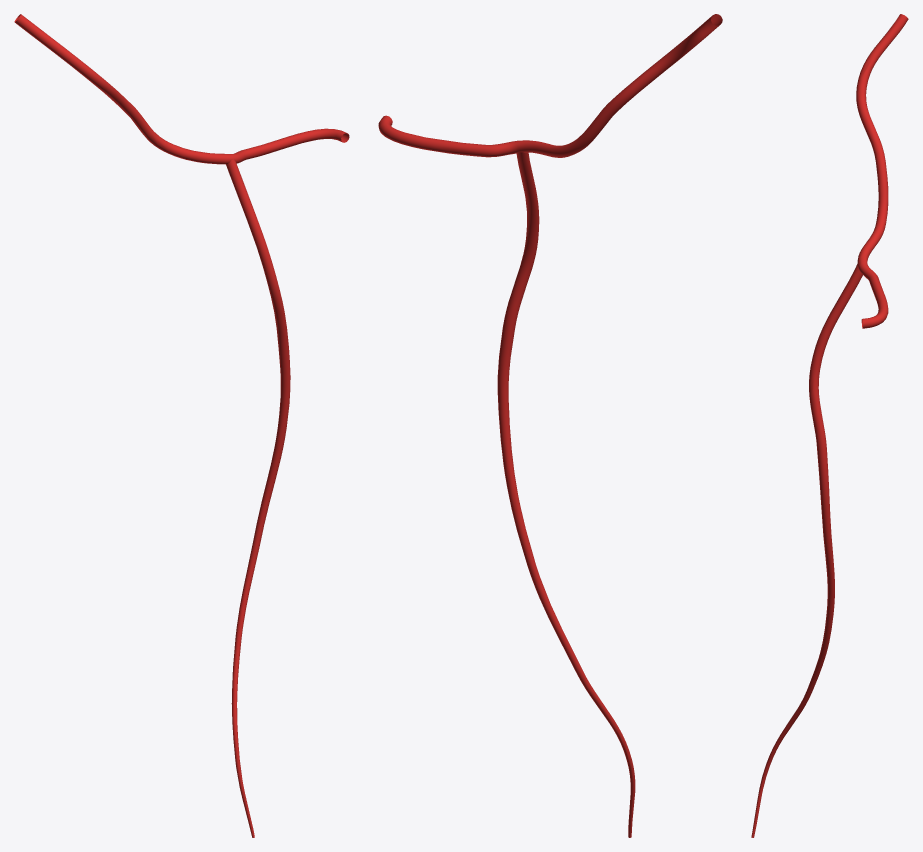
File: circulatorio-superficial-external-pudendal-artery-r.glb
The picture shows the model from 3 angles, left to right: view 1: azimuth 30°, elevation 25°; view 2: azimuth 150°, elevation 25°; view 3: azimuth 270°, elevation 25°; orthographic projection. The views are drawn at different scales.
Parts seen in each view (by area): view 1: Superficial external pudendal artery.r; view 2: Superficial external pudendal artery.r; view 3: Superficial external pudendal artery.r.
Boxes of the visible parts, x1,y1,x2,y2 form: Superficial external pudendal artery.r: [14, 14, 349, 837]; Superficial external pudendal artery.r: [378, 14, 722, 837]; Superficial external pudendal artery.r: [751, 14, 908, 837].
Bounding box in the file's own units: 0.0479 × 0.1173 × 0.0222.
